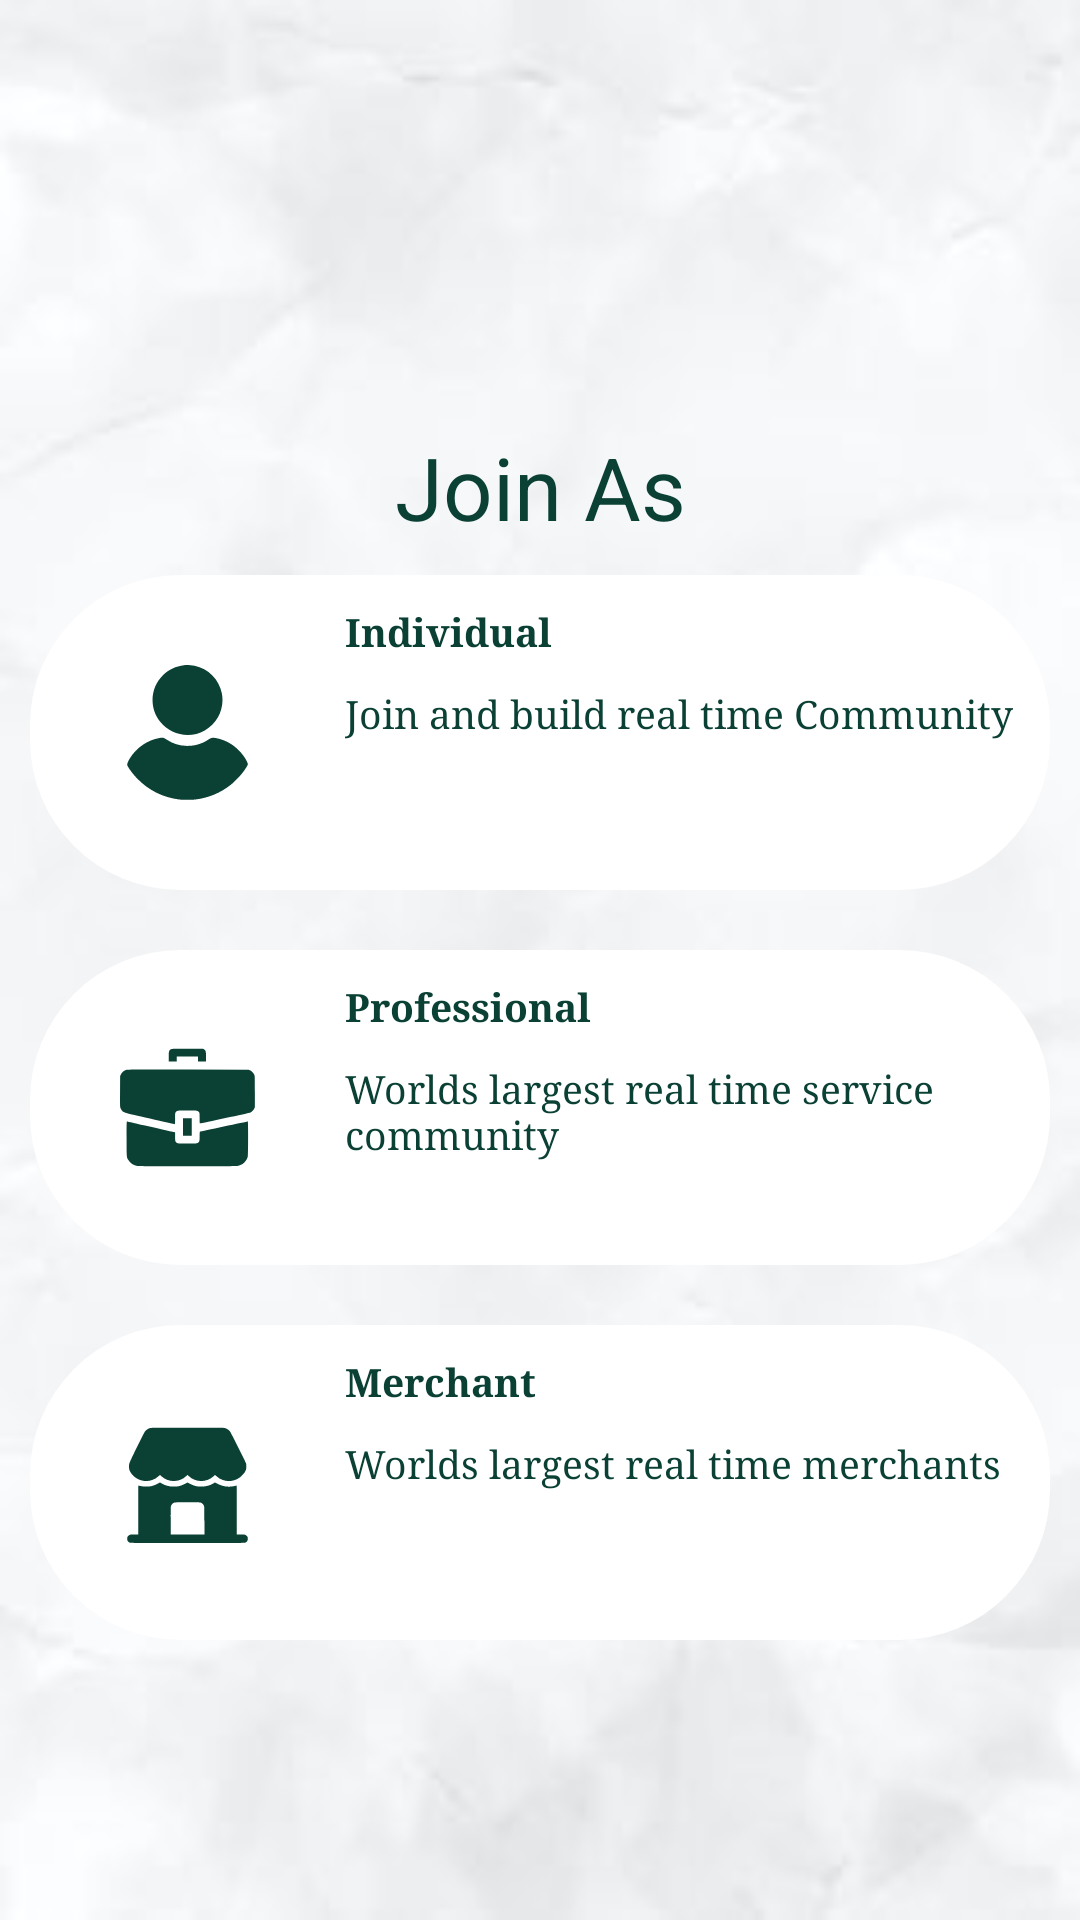

Locate icon controls on the screen. Image size 1080x1920, boxes as (x1, y1, x2, y2).
briefcase: (120, 1048, 255, 1167)
store: (127, 1427, 248, 1543)
user: (127, 665, 248, 800)
